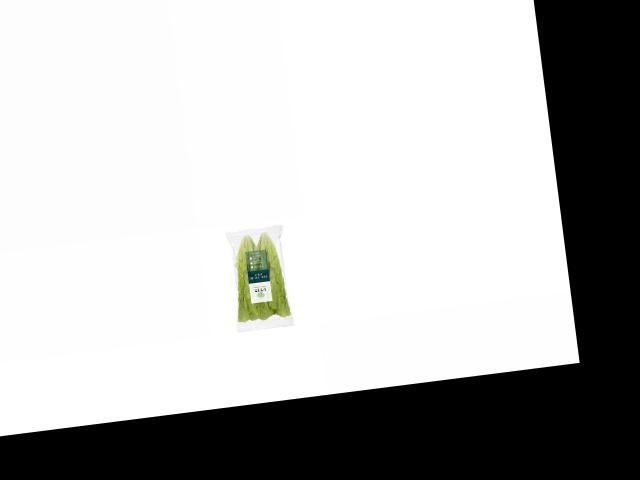lettuce: (227, 228, 298, 326)
